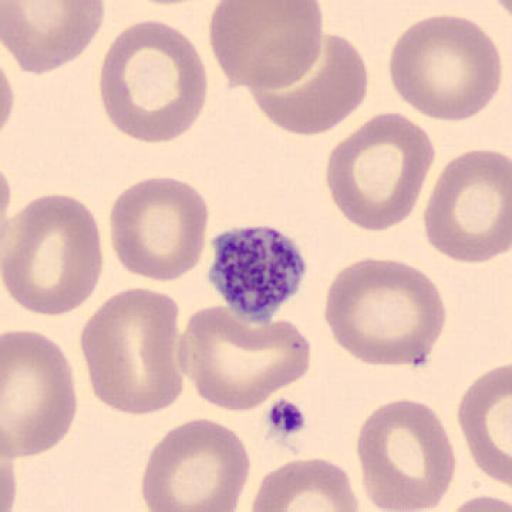Platelet: (206, 222, 310, 325)
RBC: (178, 304, 314, 414), (322, 256, 447, 369), (99, 18, 208, 147), (78, 286, 186, 416), (324, 110, 438, 233), (247, 32, 370, 137), (387, 14, 503, 124), (1, 193, 103, 318), (356, 398, 458, 512), (108, 176, 211, 286), (141, 416, 252, 512), (208, 1, 325, 91), (423, 147, 511, 266), (2, 328, 78, 459), (2, 0, 106, 76), (455, 361, 512, 488), (249, 455, 360, 512), (0, 50, 18, 143), (443, 493, 512, 512), (0, 60, 16, 136), (0, 457, 18, 512), (0, 163, 13, 239)
